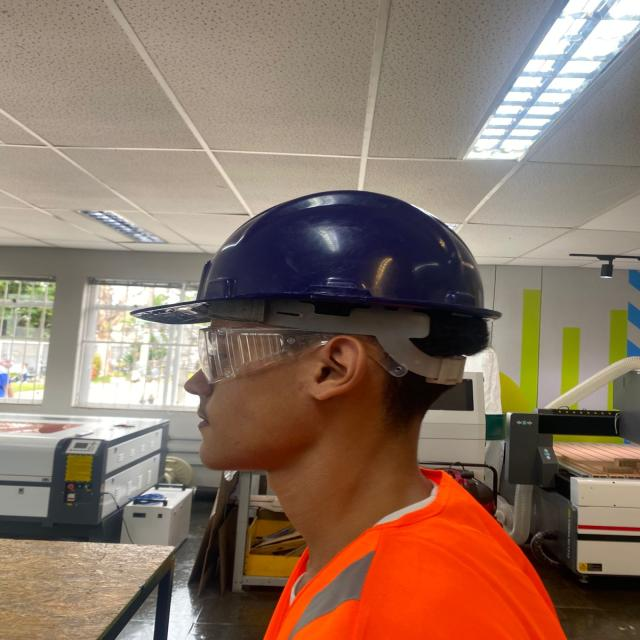CAPACETE: (123, 186, 514, 390)
COLETE: (219, 458, 575, 638)
OCULOS: (191, 322, 414, 388)
